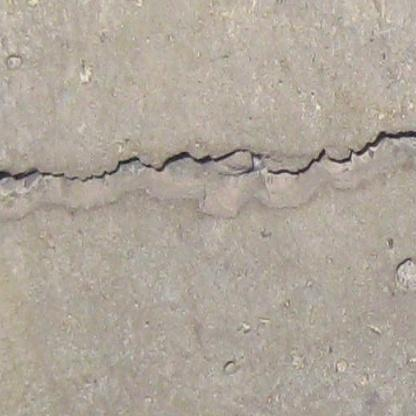Cracks: (0, 126, 416, 189)
